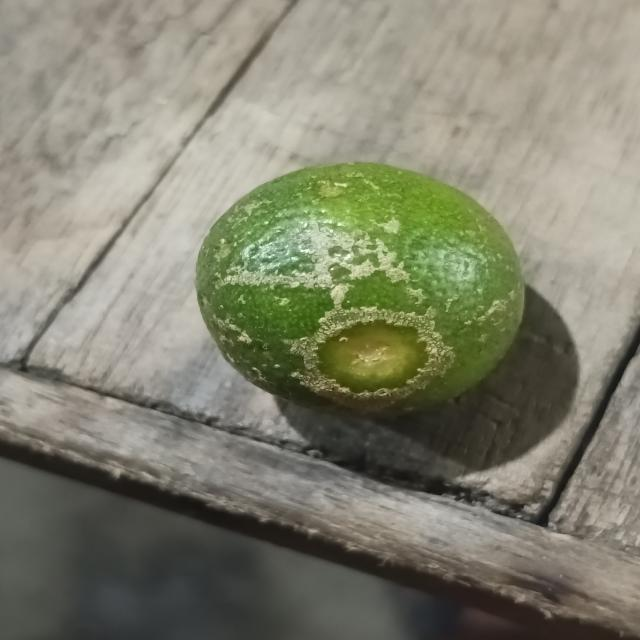thrips: (195, 156, 537, 414)
